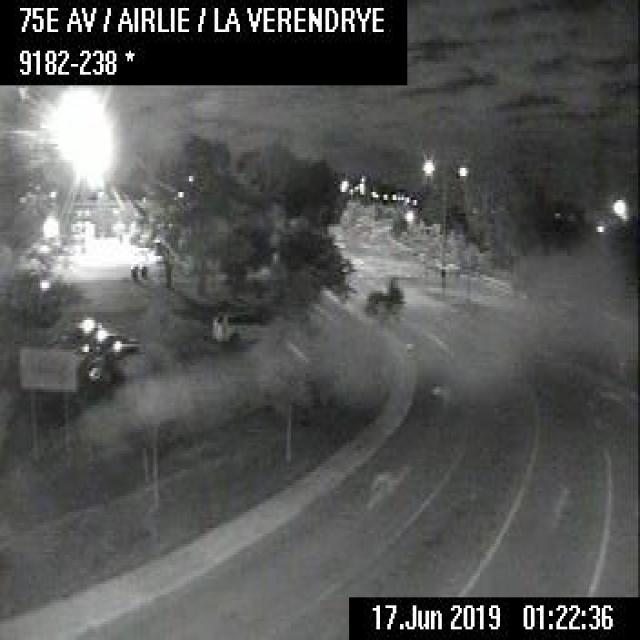vehicle: (211, 308, 268, 344)
